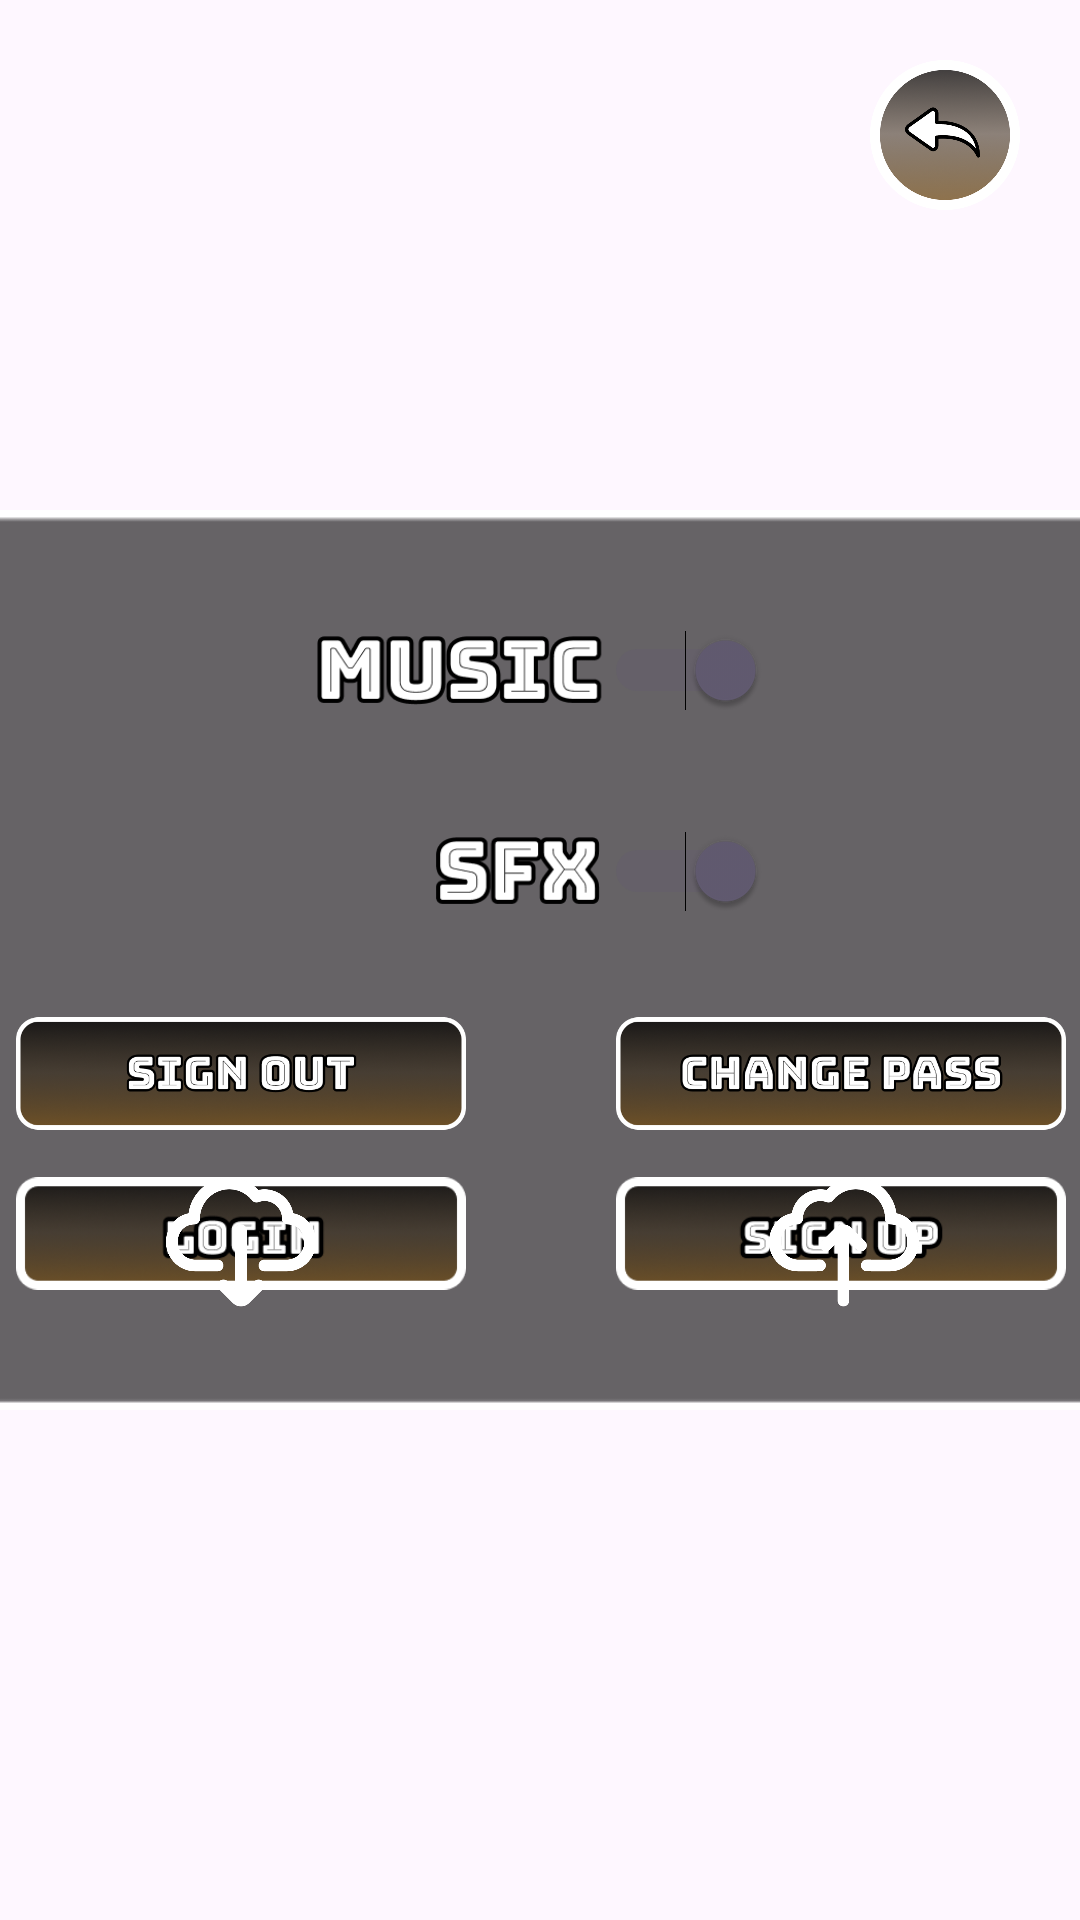

Icon bounding boxes for this 1080*1920 phone screenshot, format [x1=x1, y1=y1, x2=x2, y2=y2]:
back: [x1=880, y1=70, x2=1010, y2=200]
